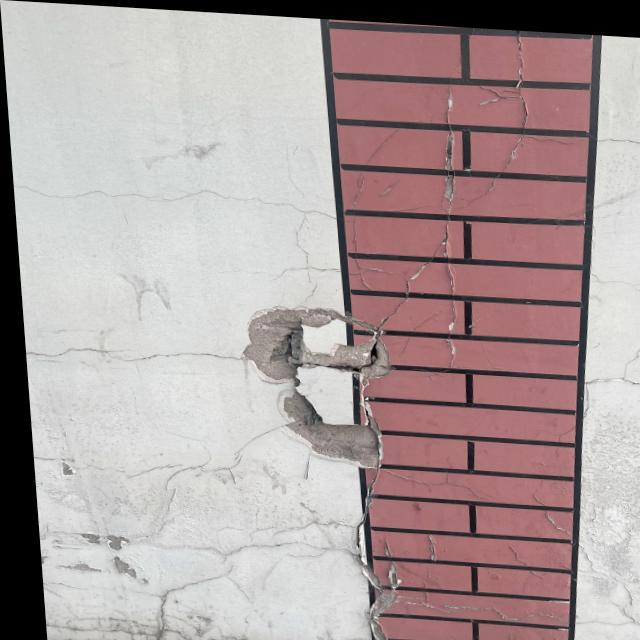crack: (14, 174, 338, 220), (469, 33, 544, 198), (52, 610, 380, 640), (412, 597, 640, 639), (30, 342, 230, 372)
spalling: (226, 289, 407, 473), (426, 81, 482, 385), (347, 517, 412, 634), (39, 523, 143, 584)
